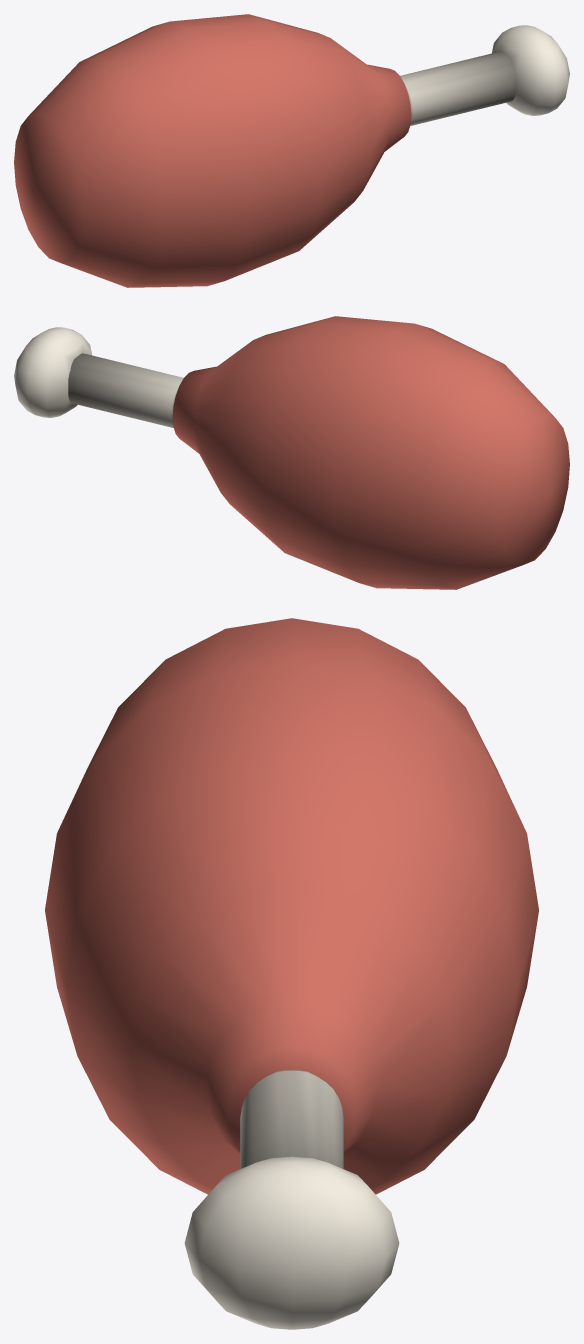
File: nd_drumstick.glb
3 renders of one model, top to bottom at view 1: azimuth 30°, elevation 25°; view 2: azimuth 150°, elevation 25°; view 3: azimuth 270°, elevation 25°, orthographic. The views are drawn at different scales.
Parts seen in each view (by area): view 1: PART; view 2: PART; view 3: PART.
Part boxes in pixels (<box>): PART: <box>14,14,569,287</box>; PART: <box>14,316,569,589</box>; PART: <box>45,618,538,1329</box>.
Size of the model in its own units: 0.204 by 0.092 by 0.0828.
